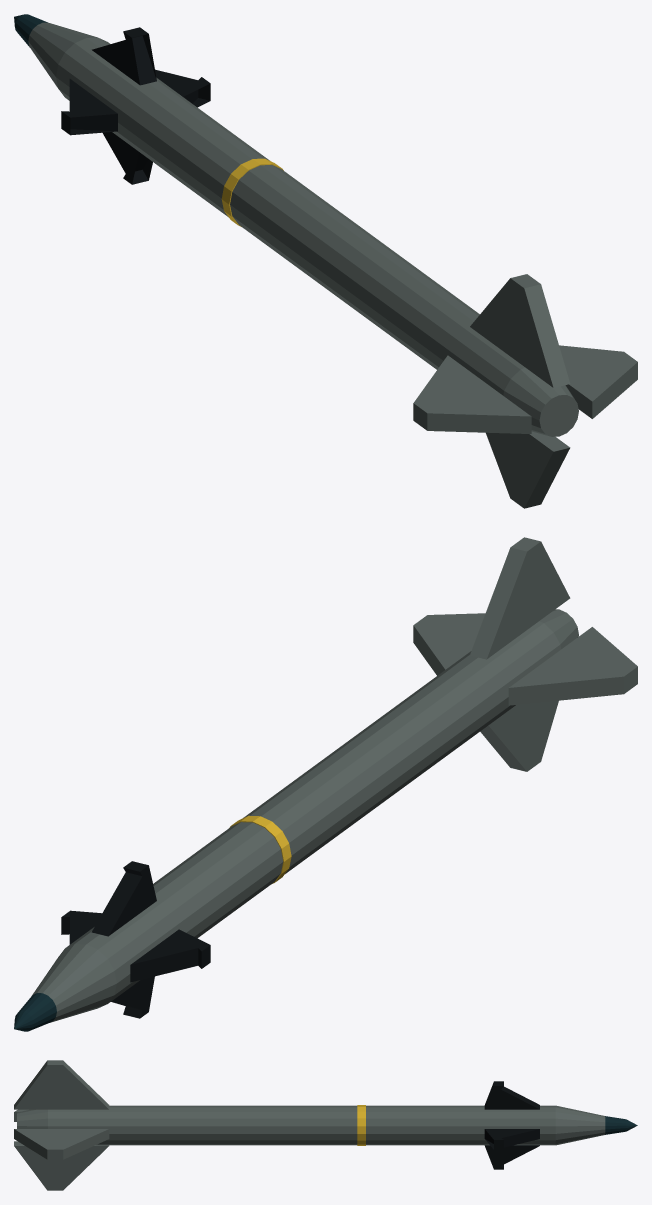
The model's file is MissileAArail__Missile.obj.
The picture shows the model from 3 angles, top to bottom: view 1: azimuth 30°, elevation 25°; view 2: azimuth 150°, elevation 25°; view 3: azimuth 270°, elevation 25°; orthographic projection. The views are drawn at different scales.
Visible parts, largest first — view 1: AA_body, AA_tail_fin.001, AA_tail_fin.002, AA_tail_fin.003, AA_tail_fin, Forward_control_fin.001, Forward_control_fin.002, Forward_control_fin.003, Forward_control_fin, Identification_band; view 2: AA_body, AA_tail_fin.001, AA_tail_fin.002, AA_tail_fin.003, AA_tail_fin, Forward_control_fin.001, Forward_control_fin.002, Optical_seeker, Forward_control_fin.003, Forward_control_fin, Identification_band; view 3: AA_body, AA_tail_fin.001, AA_tail_fin, AA_tail_fin.003, Forward_control_fin.001, Forward_control_fin, Forward_control_fin.003, Optical_seeker, Identification_band.
Part boxes in pixels (x1,y1,x2,y2): AA_body: [28, 22, 578, 436]; AA_tail_fin.001: [470, 274, 570, 387]; AA_tail_fin.002: [413, 355, 531, 433]; AA_tail_fin.003: [486, 431, 570, 508]; AA_tail_fin: [559, 345, 637, 418]; Forward_control_fin.001: [92, 27, 156, 85]; Forward_control_fin.002: [61, 79, 117, 135]; Forward_control_fin.003: [102, 132, 152, 184]; Forward_control_fin: [155, 69, 210, 107]; Identification_band: [221, 158, 283, 226]; AA_body: [32, 609, 578, 1022]; AA_tail_fin.001: [470, 537, 570, 659]; AA_tail_fin.002: [508, 627, 637, 705]; AA_tail_fin.003: [480, 700, 558, 771]; AA_tail_fin: [413, 613, 485, 675]; Forward_control_fin.001: [91, 861, 156, 936]; Forward_control_fin.002: [130, 929, 210, 982]; Optical_seeker: [14, 993, 56, 1031]; Forward_control_fin.003: [111, 976, 154, 1018]; Forward_control_fin: [61, 910, 101, 944]; Identification_band: [229, 815, 291, 884]; AA_body: [17, 1105, 605, 1145]; AA_tail_fin.001: [14, 1060, 109, 1109]; AA_tail_fin: [14, 1129, 109, 1159]; AA_tail_fin.003: [14, 1141, 109, 1190]; Forward_control_fin.001: [484, 1081, 539, 1109]; Forward_control_fin: [484, 1129, 539, 1149]; Forward_control_fin.003: [484, 1145, 539, 1169]; Optical_seeker: [605, 1116, 637, 1134]; Identification_band: [357, 1105, 365, 1145].
Size of the model in its own units: 0.45 by 0.45 by 2.03.
